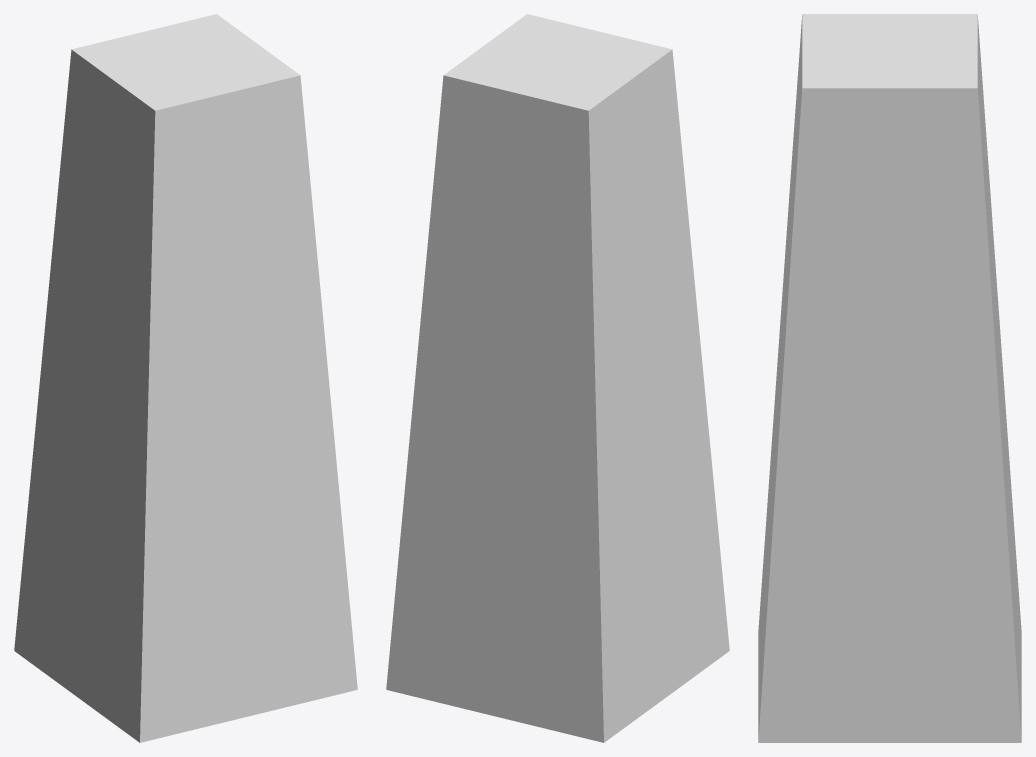
Rendered from VerticalThickThin.obj.
The picture shows the model from 3 angles, left to right: view 1: azimuth 30°, elevation 25°; view 2: azimuth 150°, elevation 25°; view 3: azimuth 270°, elevation 25°; orthographic projection. The views are drawn at different scales.
Bounding box in the file's own units: 0.375 × 1 × 0.375.
